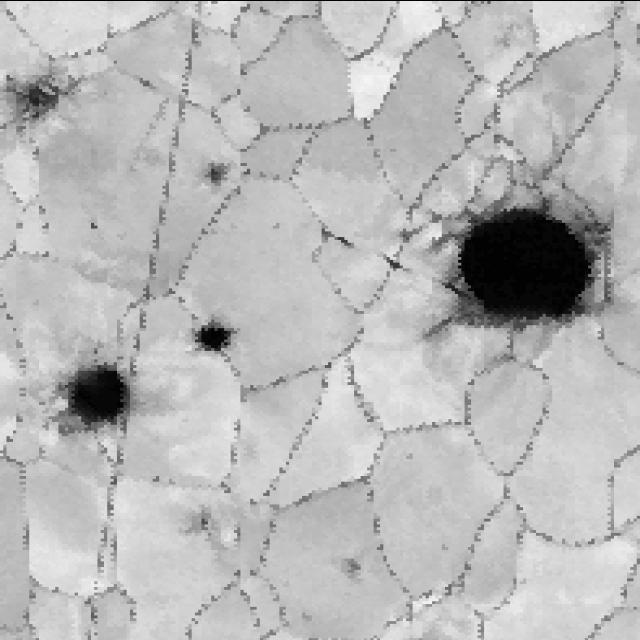good_void: (398, 163, 616, 343), (49, 349, 150, 441), (4, 65, 85, 140), (193, 309, 238, 364), (330, 546, 374, 585), (316, 225, 364, 259), (180, 505, 222, 543), (206, 149, 237, 184), (383, 253, 413, 282), (135, 75, 162, 93), (83, 217, 108, 236), (253, 3, 276, 18)
